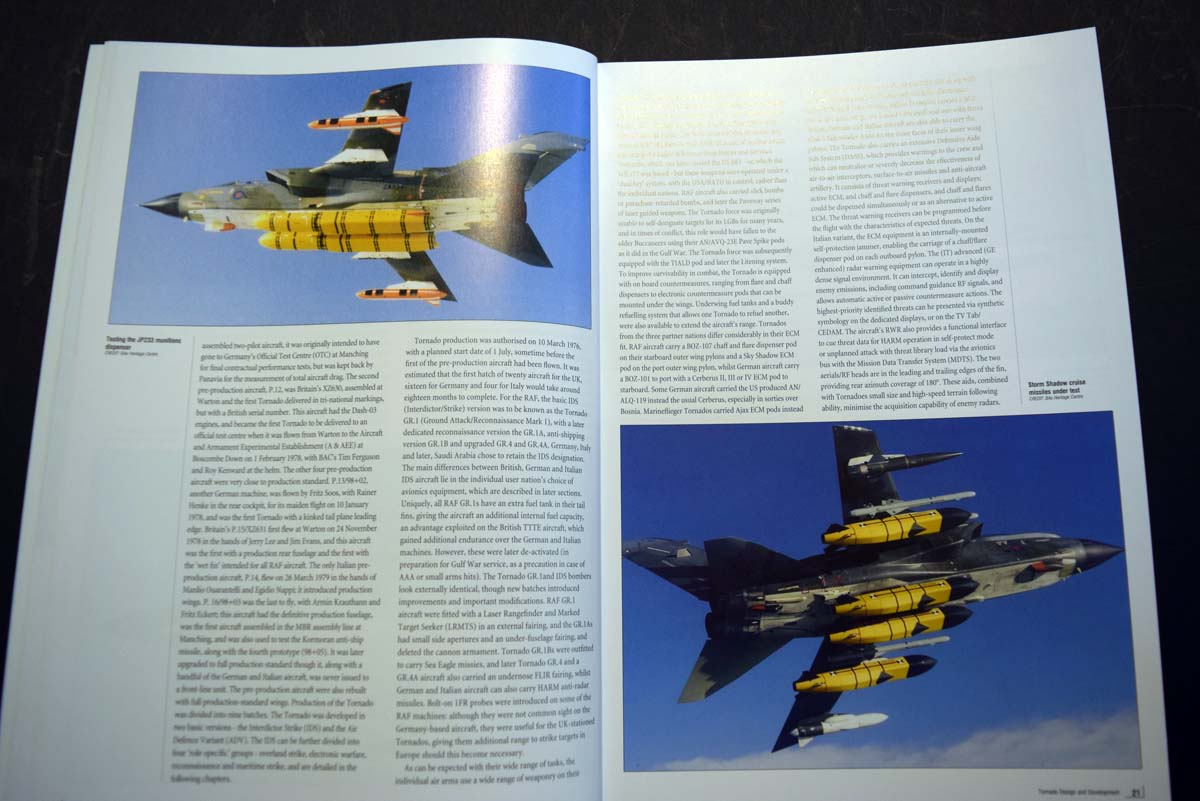Tornado: (621, 424, 1126, 754), (127, 80, 591, 308)
